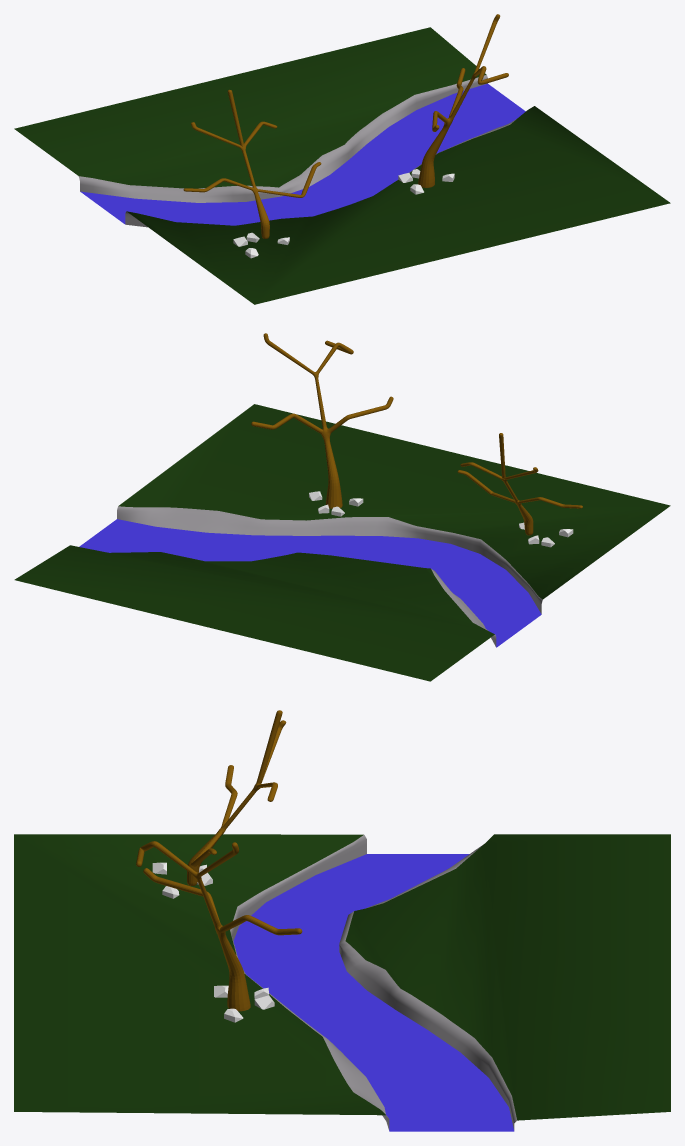
Rendered from styx.glb.
The picture shows the model from 3 angles, top to bottom: view 1: azimuth 30°, elevation 25°; view 2: azimuth 150°, elevation 25°; view 3: azimuth 270°, elevation 25°; orthographic projection. The views are drawn at different scales.
Visible parts, largest first — view 1: Scene, River; view 2: Scene, River; view 3: Scene, River, Left.
Part boxes in pixels (bbox=[...]): Scene: bbox=[14, 14, 670, 304]; River: bbox=[80, 83, 525, 225]; Scene: bbox=[14, 333, 670, 681]; River: bbox=[79, 519, 541, 647]; Scene: bbox=[14, 710, 670, 1130]; River: bbox=[233, 854, 514, 1131]; Left: bbox=[214, 985, 274, 1022].
Bounding box in the file's own units: 6 × 2.29 × 6.
